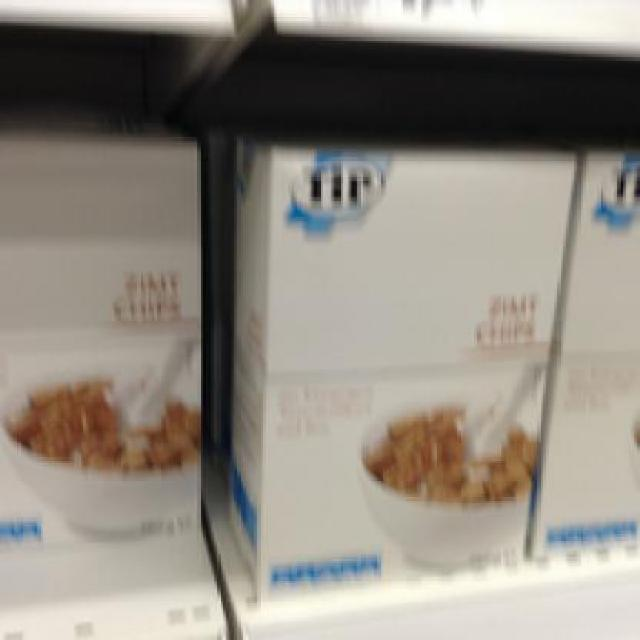Cereal: (228, 134, 582, 597), (0, 134, 197, 597)
